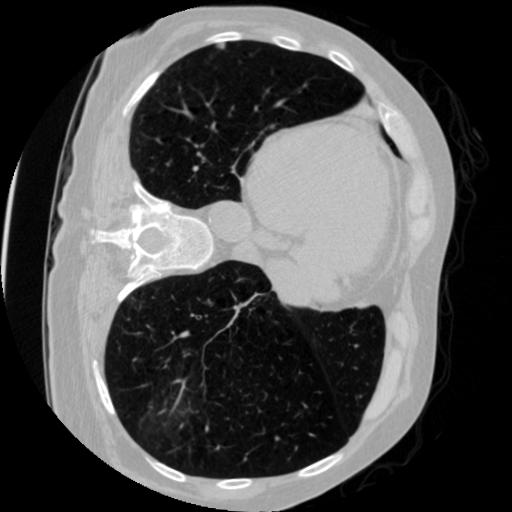nodule: (216, 42, 230, 56)
